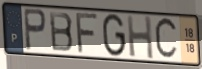B: (48, 11, 75, 54)
C: (153, 16, 179, 63)
F: (75, 12, 100, 56)
G: (102, 12, 127, 59)
H: (125, 14, 155, 61)
P: (22, 7, 48, 53)
